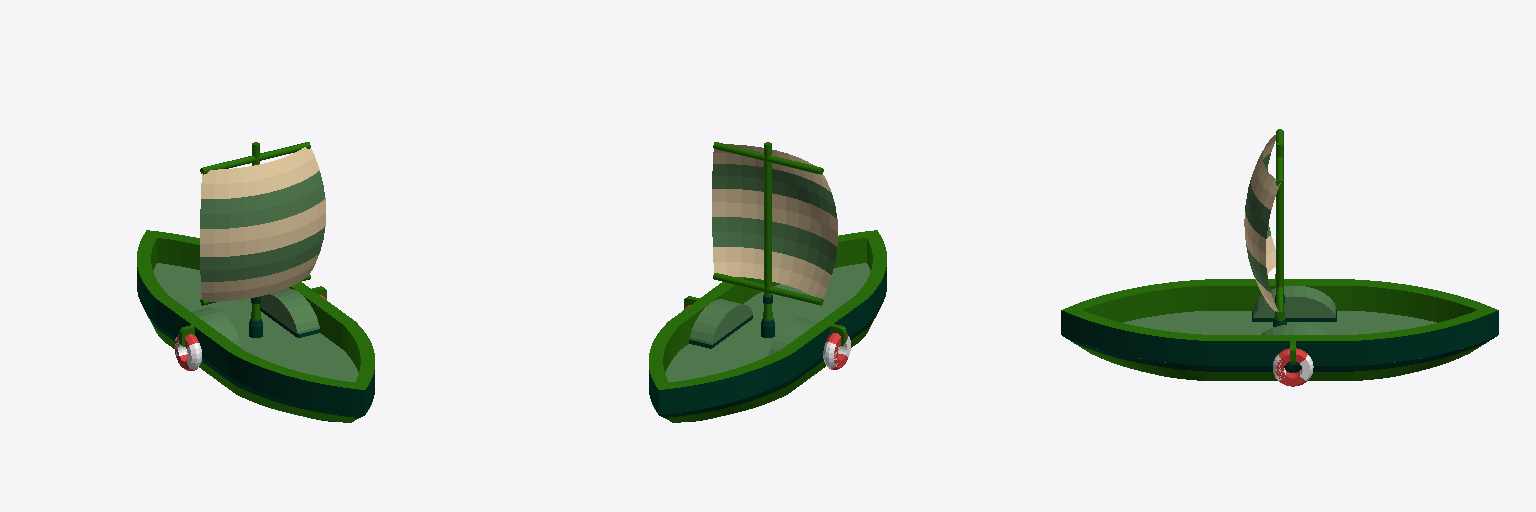
File: boat5.obj
The picture shows the model from 3 angles: view 1: azimuth 30°, elevation 25°; view 2: azimuth 150°, elevation 25°; view 3: azimuth 270°, elevation 25°; orthographic projection.
Visible parts, largest first — view 1: sail_stripesHorizontal, rail_frontSmooth, hull_halfFrontSmooth, hull_half, rail, wheel_cover, detail_tireEmergencyAttachment, mast_middle; view 2: sail_stripesHorizontal, rail_frontSmooth, hull_halfFrontSmooth, rail, hull_half, wheel_cover, mast_middle, detail_tireEmergencyAttachment, mast_bottomDetailed; view 3: rail_frontSmooth, rail, hull_halfFrontSmooth, hull_half, sail_stripesHorizontal, wheel_cover, mast_middle, detail_tireEmergencyAttachment.
Boxes of the visible parts, x1,y1,x2,y2 form: sail_stripesHorizontal: [200, 147, 325, 301]; rail_frontSmooth: [137, 230, 374, 414]; hull_halfFrontSmooth: [144, 263, 371, 422]; hull_half: [157, 301, 342, 392]; rail: [156, 282, 354, 376]; wheel_cover: [192, 288, 319, 347]; detail_tireEmergencyAttachment: [174, 286, 326, 370]; mast_middle: [200, 142, 310, 305]; sail_stripesHorizontal: [712, 144, 837, 298]; rail_frontSmooth: [649, 230, 886, 414]; hull_halfFrontSmooth: [652, 263, 879, 422]; rail: [669, 277, 867, 376]; hull_half: [681, 296, 866, 392]; wheel_cover: [689, 299, 817, 355]; mast_middle: [713, 142, 823, 305]; detail_tireEmergencyAttachment: [684, 296, 850, 369]; mast_bottomDetailed: [761, 276, 774, 337]; rail_frontSmooth: [1061, 279, 1498, 365]; rail: [1207, 279, 1352, 365]; hull_halfFrontSmooth: [1063, 311, 1496, 380]; hull_half: [1207, 311, 1352, 380]; sail_stripesHorizontal: [1244, 135, 1280, 311]; wheel_cover: [1252, 285, 1336, 334]; mast_middle: [1276, 129, 1283, 317]; detail_tireEmergencyAttachment: [1273, 274, 1313, 386].
Bounding box in the file's own units: 1.21 × 1.7 × 3.